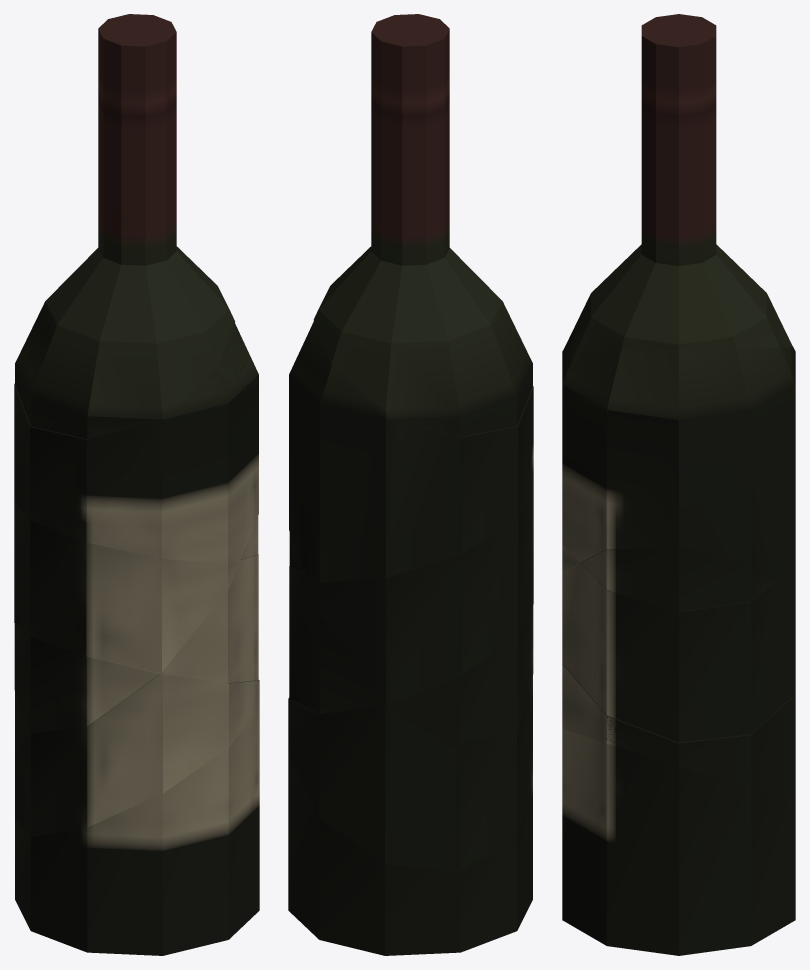
The model's file is BrokenwineBottle.fbx.
3 renders of one model, left to right at view 1: azimuth 30°, elevation 25°; view 2: azimuth 150°, elevation 25°; view 3: azimuth 270°, elevation 25°, orthographic.
Visible parts, largest first — view 1: pCylinder27.002, pCylinder27.004, pCylinder27.006, pCylinder27.005, pCylinder27.007, pCylinder27.009, pCylinder27.010; view 2: pCylinder27.002, pCylinder27.006, pCylinder27.005, pCylinder27.004, pCylinder27.007, pCylinder27.009, pCylinder27.010; view 3: pCylinder27.006, pCylinder27.004, pCylinder27.002, pCylinder27.010, pCylinder27.005, pCylinder27.008, pCylinder27.007.
Boxes of the visible parts, x1=… form: pCylinder27.002: x1=15, y1=14, x2=235, y2=439; pCylinder27.004: x1=15, y1=708, x2=259, y2=955; pCylinder27.006: x1=14, y1=323, x2=258, y2=563; pCylinder27.005: x1=15, y1=674, x2=259, y2=836; pCylinder27.007: x1=14, y1=502, x2=240, y2=673; pCylinder27.009: x1=14, y1=623, x2=159, y2=733; pCylinder27.010: x1=160, y1=554, x2=258, y2=683; pCylinder27.002: x1=313, y1=14, x2=532, y2=436; pCylinder27.006: x1=289, y1=321, x2=533, y2=582; pCylinder27.005: x1=288, y1=676, x2=532, y2=871; pCylinder27.004: x1=288, y1=752, x2=532, y2=955; pCylinder27.007: x1=305, y1=490, x2=533, y2=702; pCylinder27.009: x1=393, y1=605, x2=533, y2=742; pCylinder27.010: x1=289, y1=566, x2=392, y2=714; pCylinder27.006: x1=562, y1=346, x2=795, y2=581; pCylinder27.004: x1=562, y1=728, x2=795, y2=955; pCylinder27.002: x1=563, y1=14, x2=792, y2=351; pCylinder27.010: x1=562, y1=562, x2=795, y2=742; pCylinder27.005: x1=562, y1=664, x2=795, y2=798; pCylinder27.008: x1=581, y1=547, x2=773, y2=611; pCylinder27.007: x1=562, y1=544, x2=795, y2=596.
Bounding box in the file's own units: 50.58 × 198 × 47.9.
